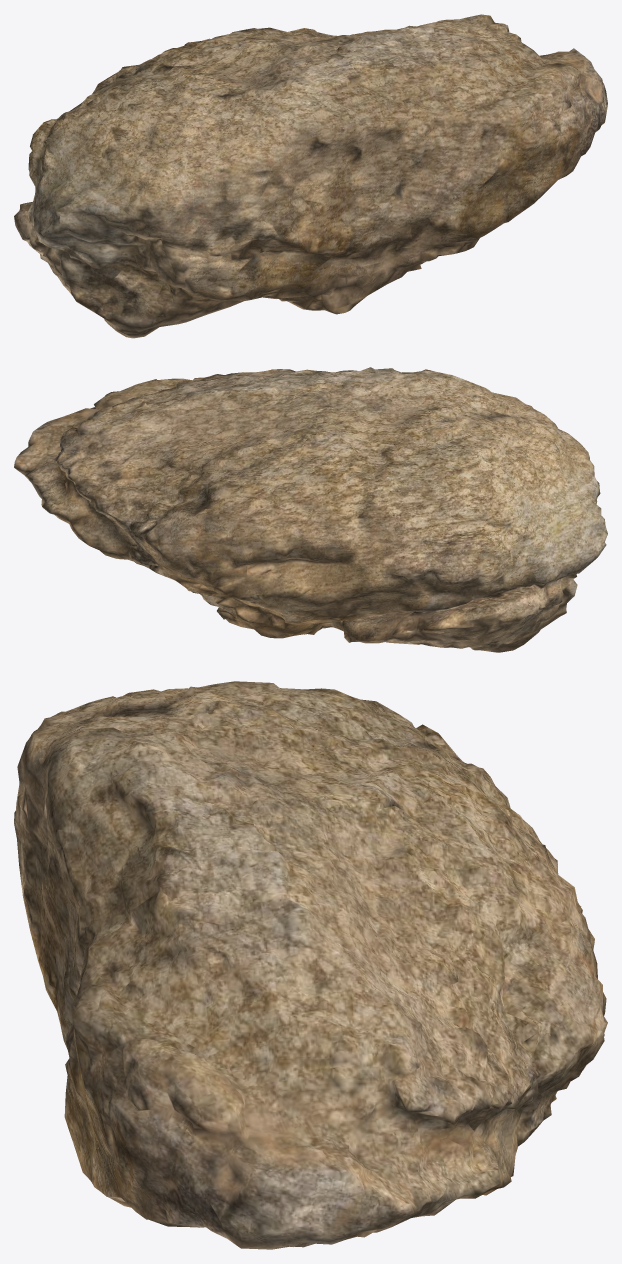
Rendered from namaqualand_boulder_05.gltf.
The picture shows the model from 3 angles, top to bottom: view 1: azimuth 30°, elevation 25°; view 2: azimuth 150°, elevation 25°; view 3: azimuth 270°, elevation 25°; orthographic projection. The views are drawn at different scales.
Parts seen in each view (by area): view 1: namaqualand_boulder_05; view 2: namaqualand_boulder_05; view 3: namaqualand_boulder_05.
Boxes of the visible parts, x1,y1,x2,y2 form: namaqualand_boulder_05: (14,14,607,338); namaqualand_boulder_05: (14,367,607,652); namaqualand_boulder_05: (14,681,607,1249).
Bounding box in the file's own units: 1.36 × 0.5339 × 0.748.
1 material, 1 textured.
